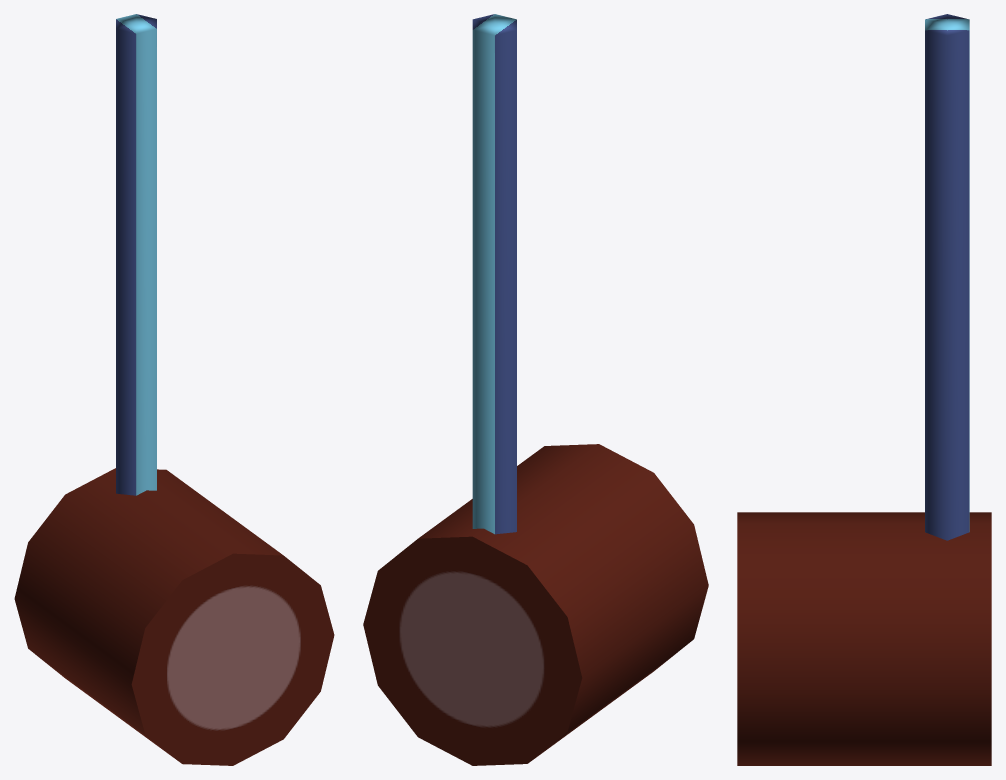
The model's file is Top.fbx.
3 views of the same model, side by side, from view 1: azimuth 30°, elevation 25°; view 2: azimuth 150°, elevation 25°; view 3: azimuth 270°, elevation 25° (orthographic). The views are drawn at different scales.
Parts seen in each view (by area): view 1: Top; view 2: Top; view 3: Top.
Part boxes in pixels (x1=…): Top: x1=14, y1=14, x2=334, y2=765; Top: x1=363, y1=14, x2=708, y2=765; Top: x1=737, y1=14, x2=991, y2=765.
Size of the model in its own units: 0.9007 by 2.85 by 0.9007.
1 material, 1 textured.
